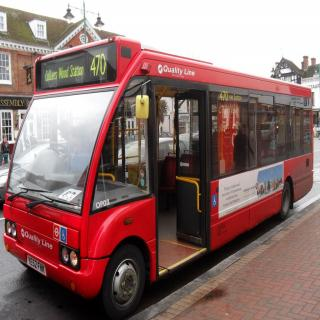bus: (3, 35, 314, 314)
